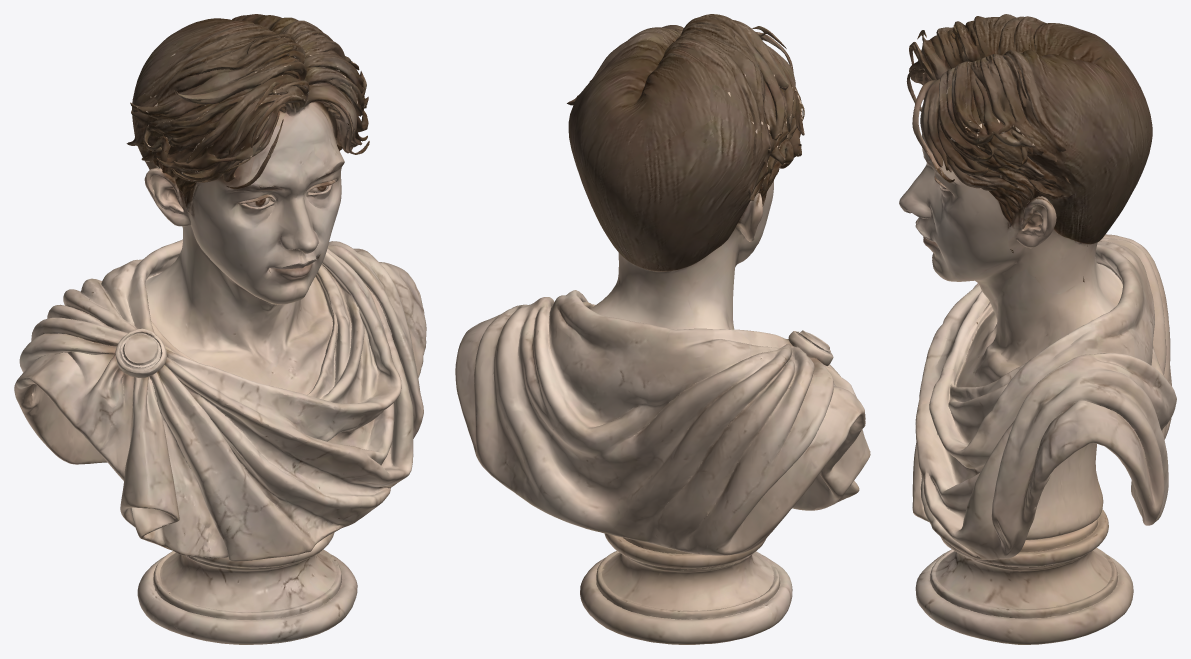
3 renders of one model, left to right at view 1: azimuth 30°, elevation 25°; view 2: azimuth 150°, elevation 25°; view 3: azimuth 270°, elevation 25°, orthographic. The views are drawn at different scales.
Visible parts, largest first — view 1: model; view 2: model; view 3: model.
Boxes of the visible parts, x1,y1,x2,y2 form: model: (14,14,426,644); model: (455,14,870,644); model: (899,14,1176,644).
Size of the model in its own units: 1.33 by 1.9 by 0.8238.
Materials: 1 (1 with a texture image).
